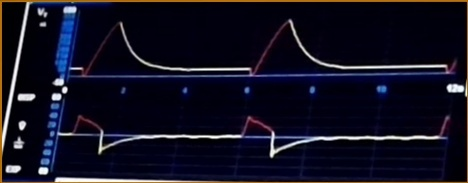Flow: (63, 108, 451, 173)
Leakage Volume: (74, 14, 459, 82)
